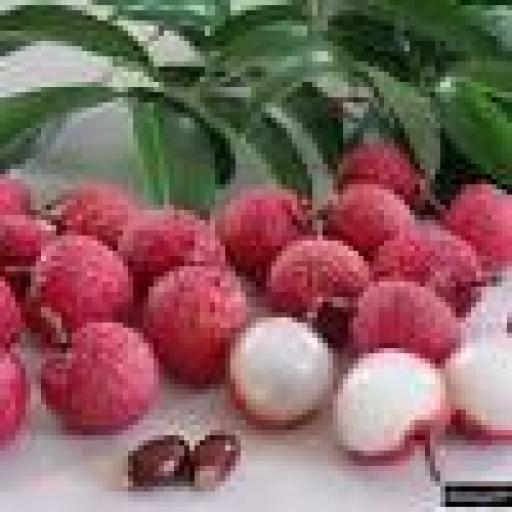lychee: (41, 323, 158, 435), (333, 349, 450, 460), (144, 267, 245, 383), (26, 236, 133, 343), (231, 318, 332, 424), (374, 226, 486, 312), (216, 185, 312, 281), (349, 282, 460, 363), (267, 236, 368, 317), (118, 210, 225, 286), (446, 333, 511, 440), (323, 185, 414, 255), (446, 185, 511, 271), (338, 139, 424, 204), (52, 185, 138, 245), (0, 216, 56, 296), (0, 216, 56, 271), (0, 354, 30, 445), (0, 282, 25, 348), (0, 175, 30, 215)
